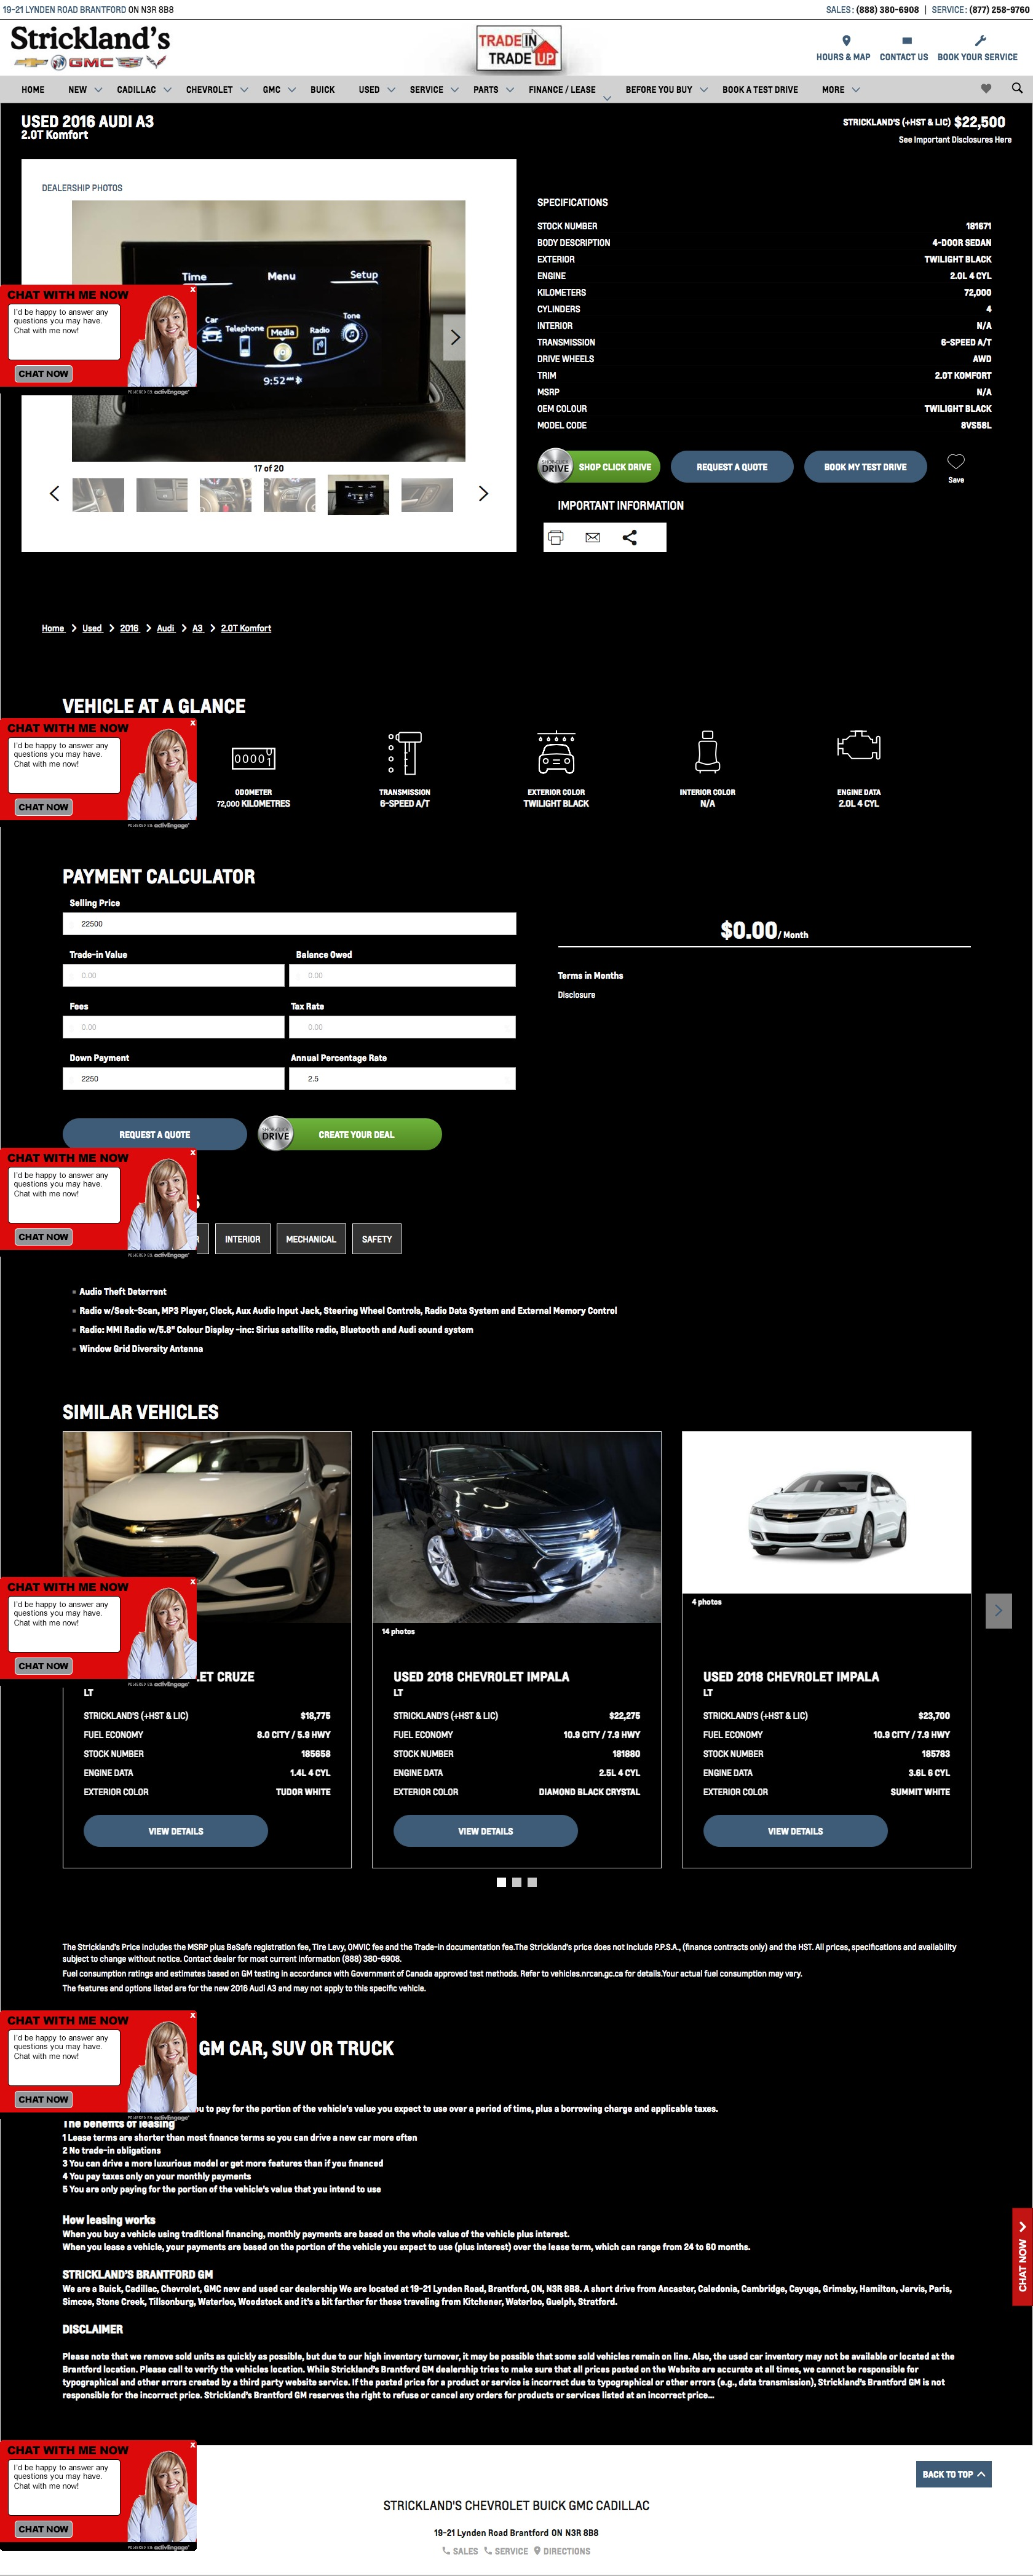car: (480, 485, 489, 503)
